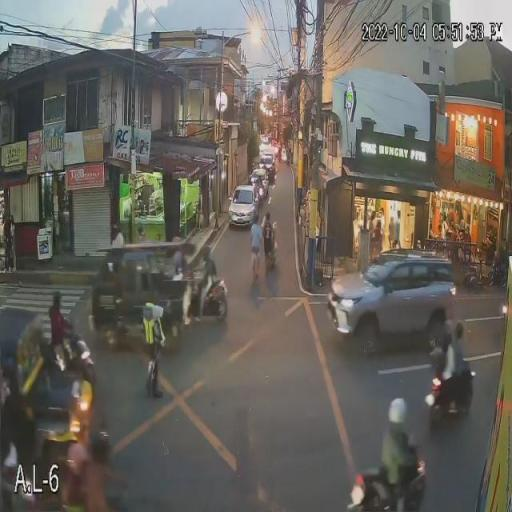helmet: (58, 436, 90, 479), (90, 432, 113, 464), (388, 398, 409, 424), (446, 322, 462, 342), (440, 320, 454, 342), (198, 250, 212, 264)
motorcycle: (347, 456, 427, 512), (424, 368, 474, 433), (52, 331, 98, 390), (184, 276, 229, 326), (260, 222, 278, 273)
rider: (380, 397, 422, 512), (55, 436, 89, 512), (48, 292, 80, 370), (88, 436, 118, 510), (434, 326, 458, 412), (191, 250, 219, 306), (452, 328, 468, 406), (259, 212, 274, 258)
